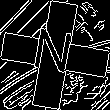N_S: (31, 27, 79, 83)
